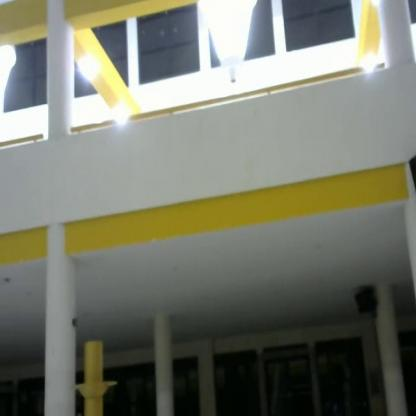pole: (67, 335, 123, 416)
